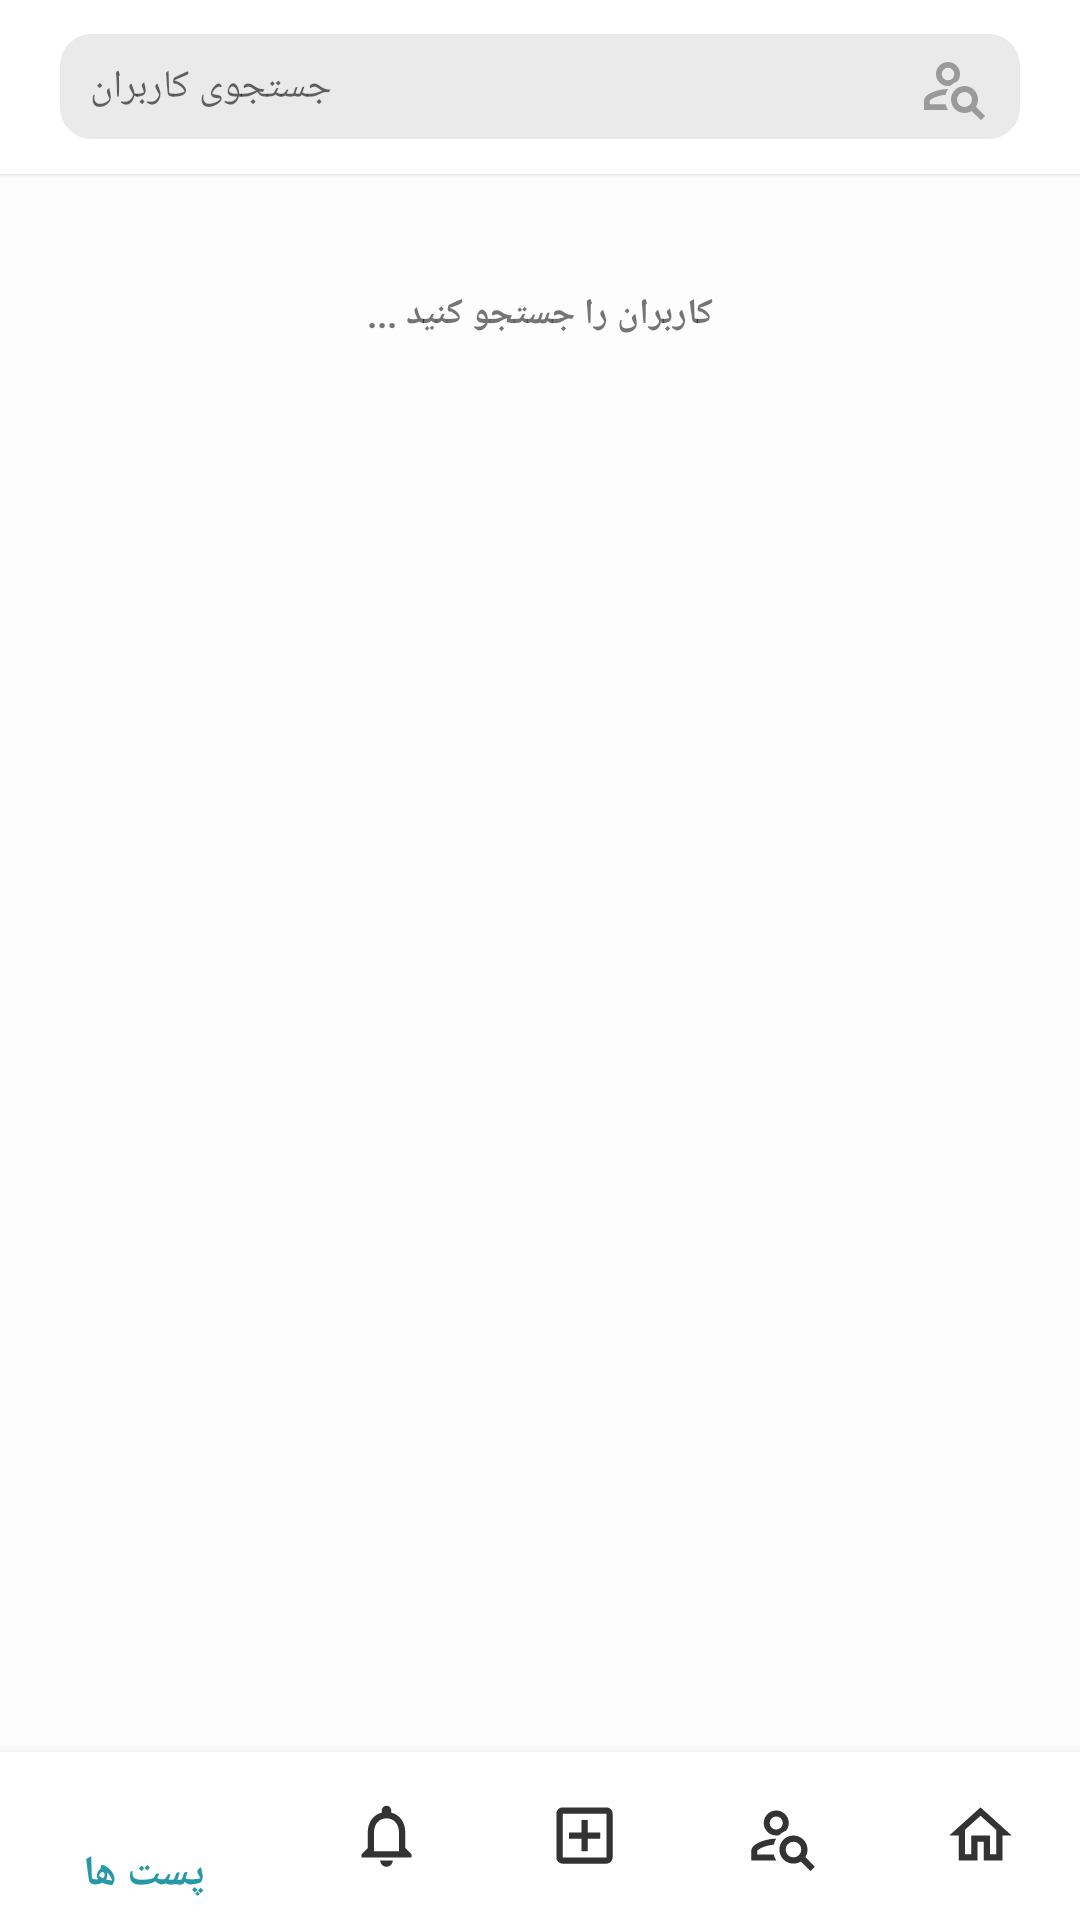

Where to tap for icons on this 1080*1920 app screen, as [x,y]:
search: [968,103]
